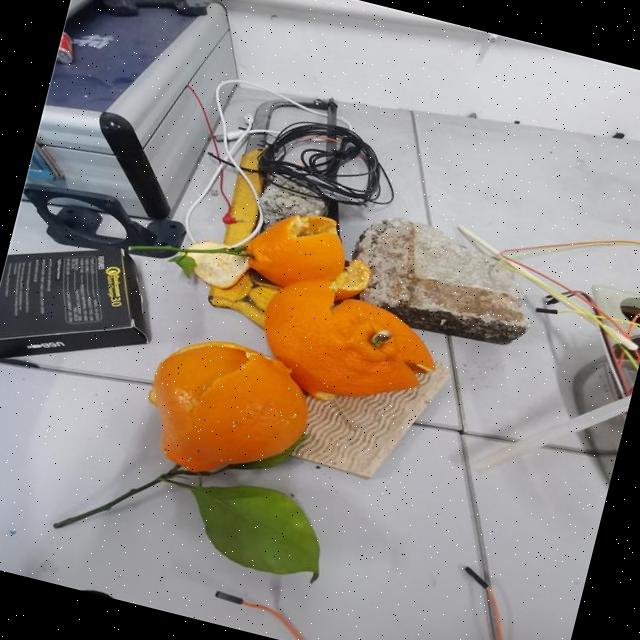orange-peel: (132, 324, 322, 496), (247, 266, 448, 422)
